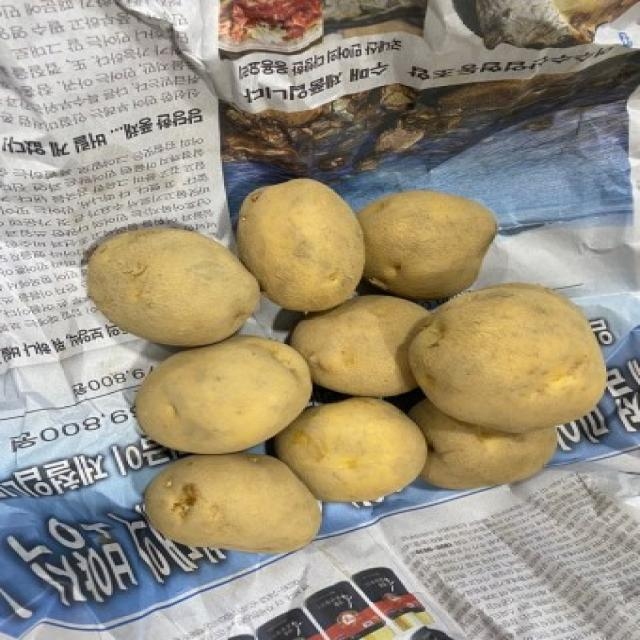potato: (407, 277, 615, 428), (81, 218, 269, 348), (130, 332, 310, 460), (136, 447, 333, 552), (234, 174, 368, 310), (274, 392, 431, 505), (403, 388, 559, 493), (292, 294, 444, 400), (360, 188, 500, 298)
